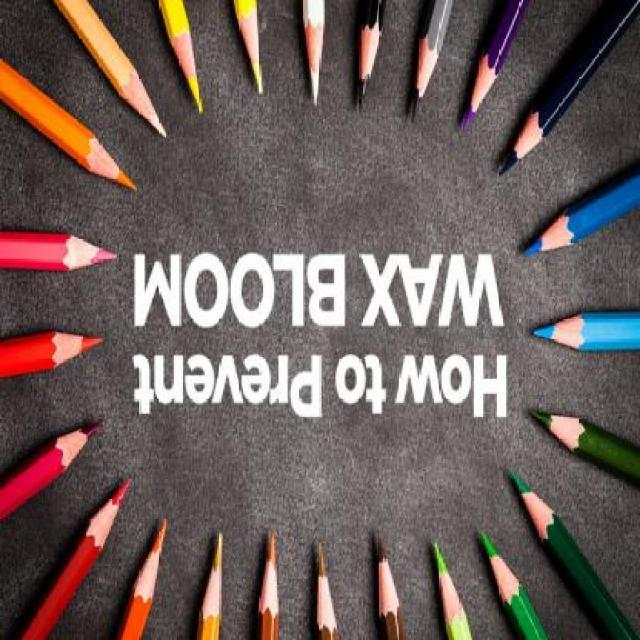pencil: (504, 462, 568, 570), (72, 472, 134, 578), (405, 2, 449, 134), (497, 96, 560, 186), (524, 392, 601, 464), (458, 30, 507, 141), (72, 126, 140, 204), (112, 56, 170, 144), (164, 8, 207, 124), (130, 510, 172, 628), (476, 522, 527, 618), (349, 0, 389, 122), (37, 308, 106, 376), (233, 0, 273, 116), (46, 406, 108, 480), (193, 522, 230, 640), (521, 203, 590, 266), (428, 538, 470, 636), (370, 524, 406, 636), (296, 6, 332, 114), (52, 221, 120, 277), (306, 537, 342, 640), (529, 308, 597, 362), (252, 524, 284, 636)
